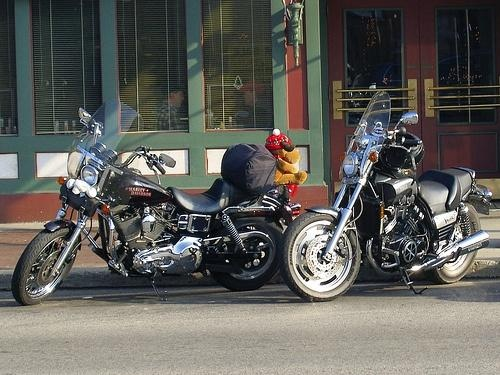motorbike: (14, 100, 303, 308), (283, 91, 498, 301)
